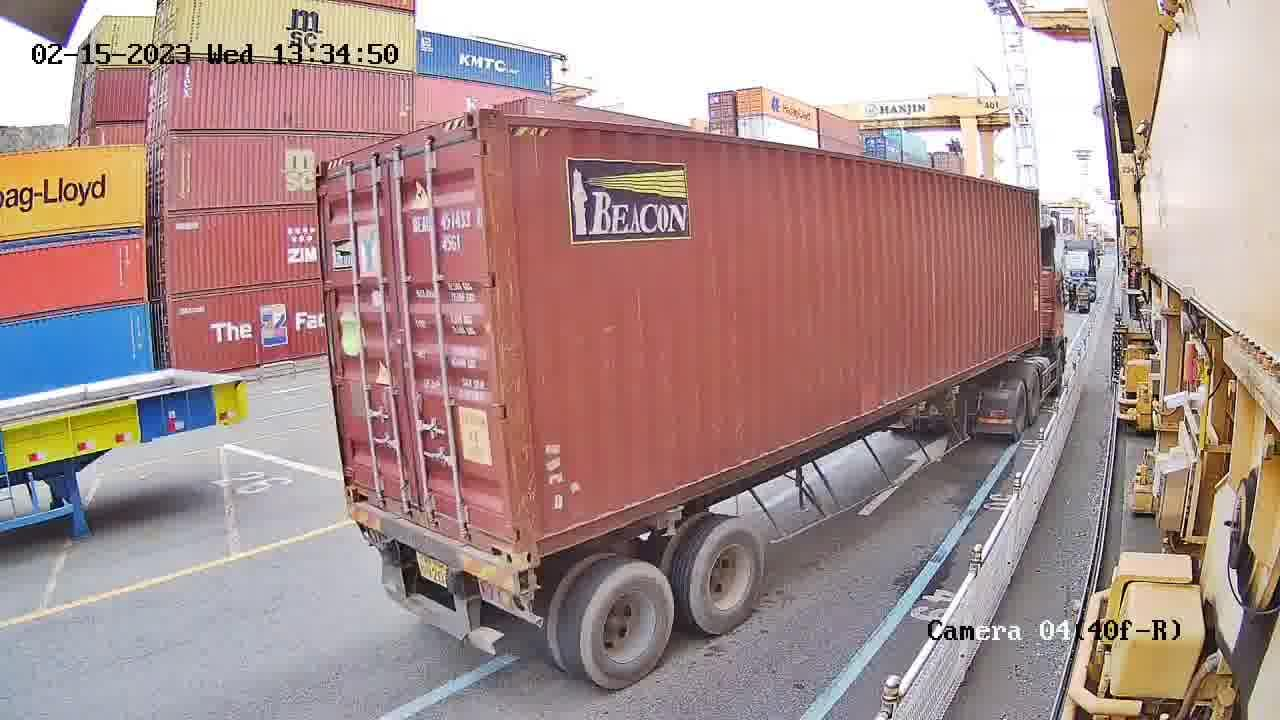Chassis: (346, 505, 522, 609)
Cone: (517, 568, 538, 597)
Hole_L: (518, 501, 574, 567), (341, 464, 378, 507)
Hole_R: (479, 513, 518, 567)
Tire: (580, 562, 676, 691), (692, 523, 770, 636)
